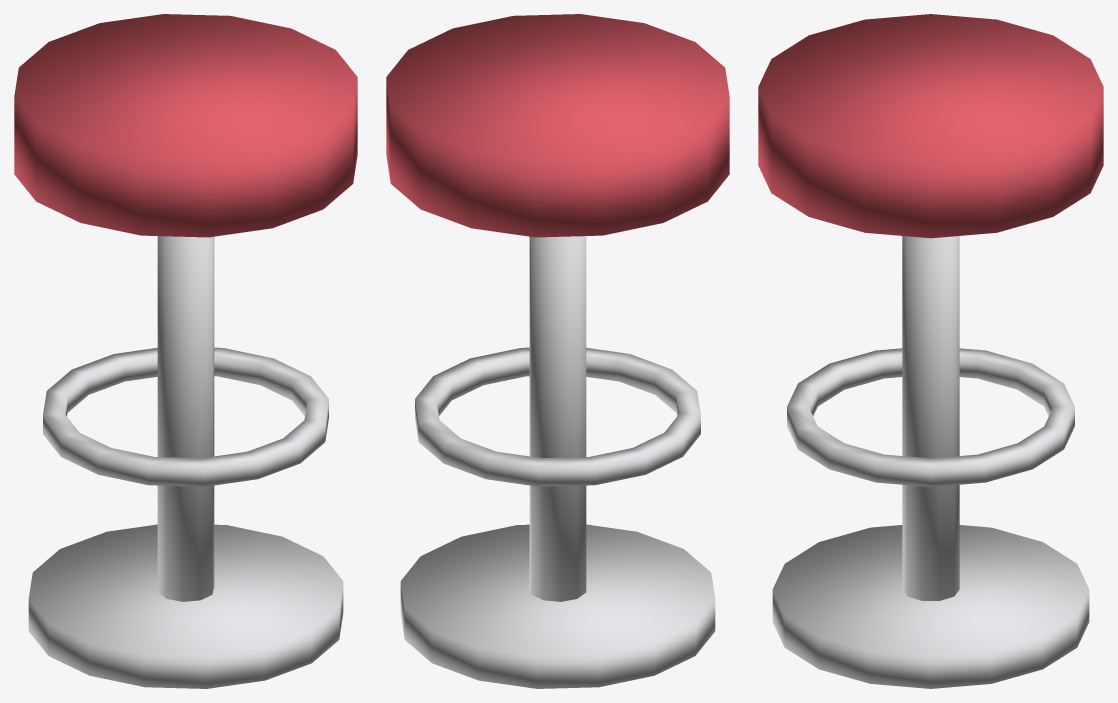
File: stool-chicken.glb
3 views of the same model, side by side, from view 1: azimuth 30°, elevation 25°; view 2: azimuth 150°, elevation 25°; view 3: azimuth 270°, elevation 25° (orthographic).
Parts seen in each view (by area): view 1: stool-chicken; view 2: stool-chicken; view 3: stool-chicken.
Part boxes in pixels (left/top/right/bottom): stool-chicken: left=14, top=14, right=357, bottom=688; stool-chicken: left=386, top=14, right=729, bottom=688; stool-chicken: left=758, top=14, right=1103, bottom=688.
Bounding box in the file's own units: 0.48 × 0.82 × 0.48.
